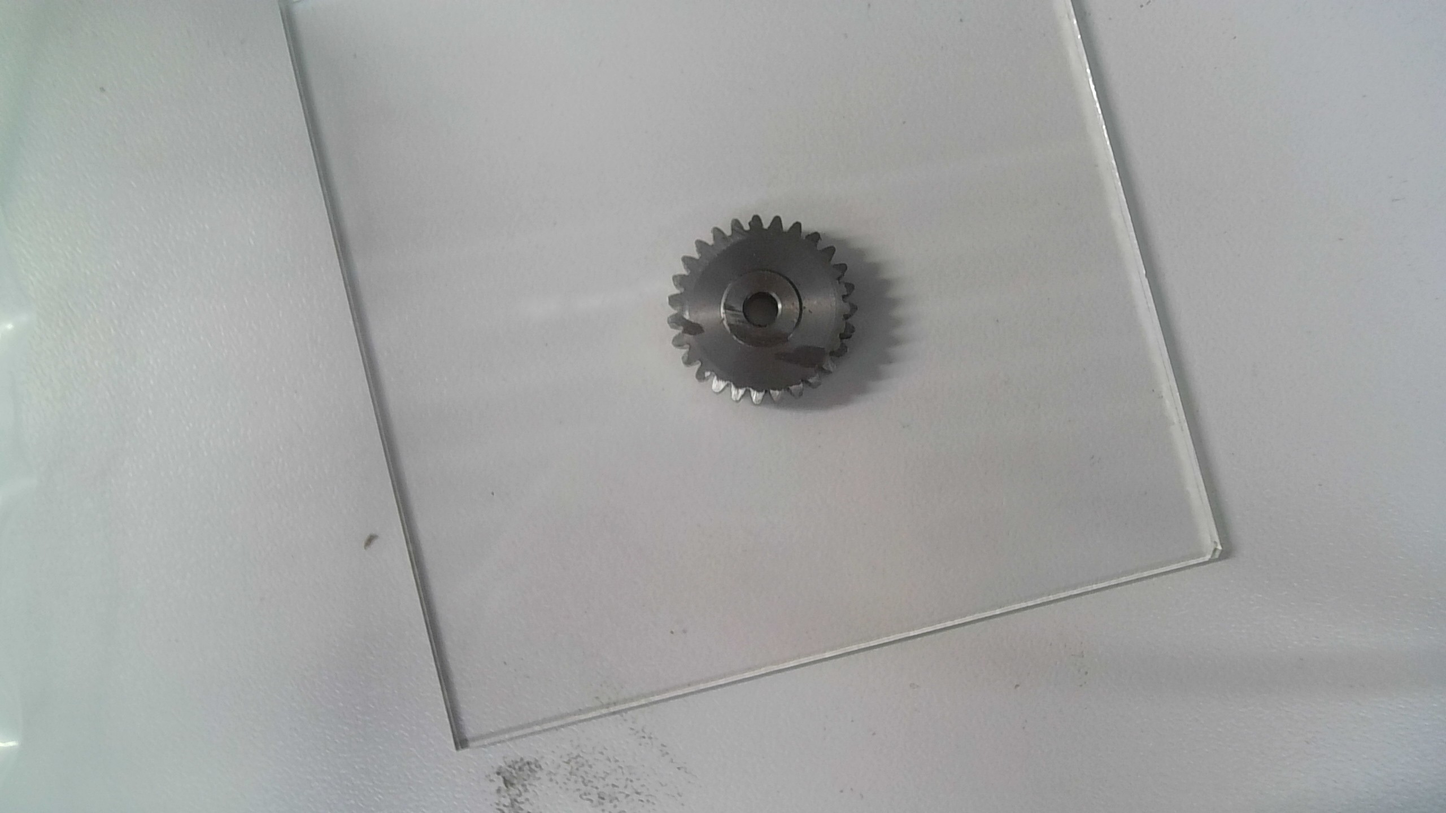gear: (659, 211, 858, 405)
